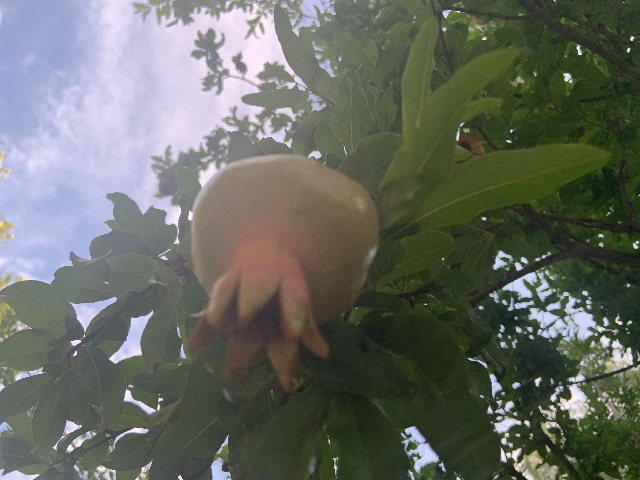mid-growth: (187, 153, 380, 394)
